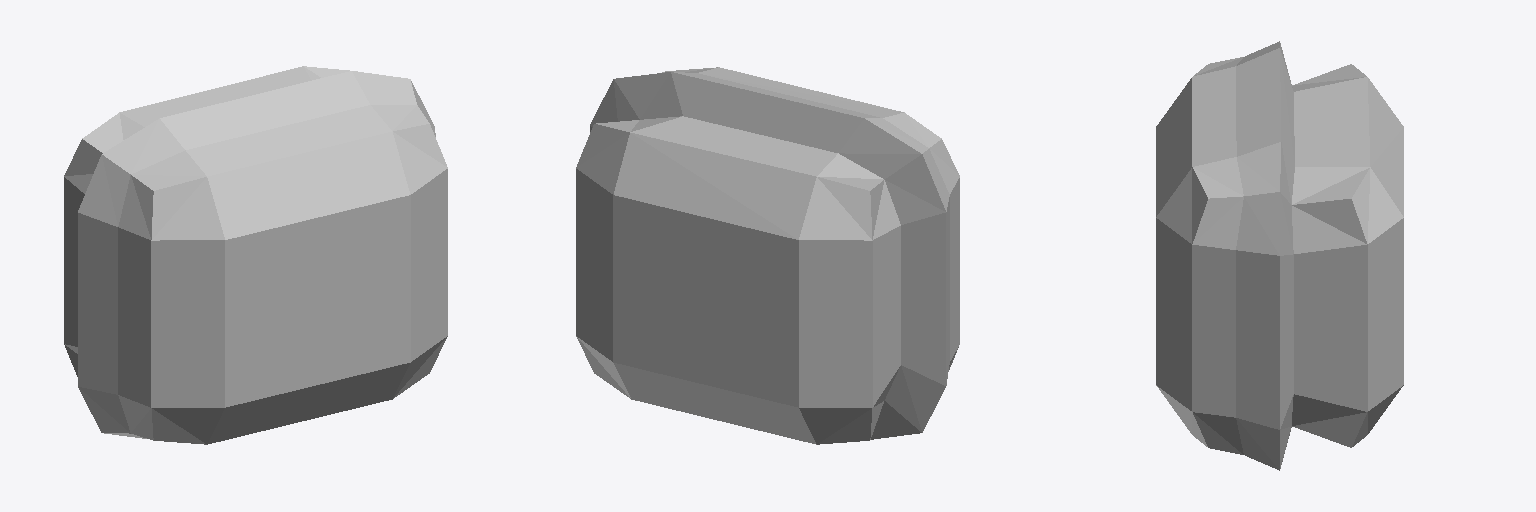
File: neck.obj
3 renders of one model, left to right at view 1: azimuth 30°, elevation 25°; view 2: azimuth 150°, elevation 25°; view 3: azimuth 270°, elevation 25°, orthographic.
Visible parts, largest first — view 1: pCube4_Mesh.024; view 2: pCube4_Mesh.024; view 3: pCube4_Mesh.024.
Part boxes in pixels (x1,y1,x2,y2): pCube4_Mesh.024: (64,66,447,444); pCube4_Mesh.024: (576,67,959,444); pCube4_Mesh.024: (1156,41,1403,470).
Bounding box in the file's own units: 0.0708 × 0.0612 × 0.0426.